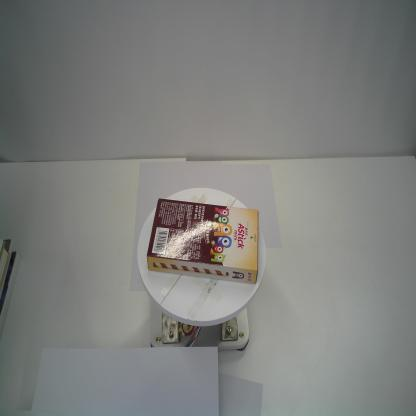Dessert: (146, 198, 259, 285)
